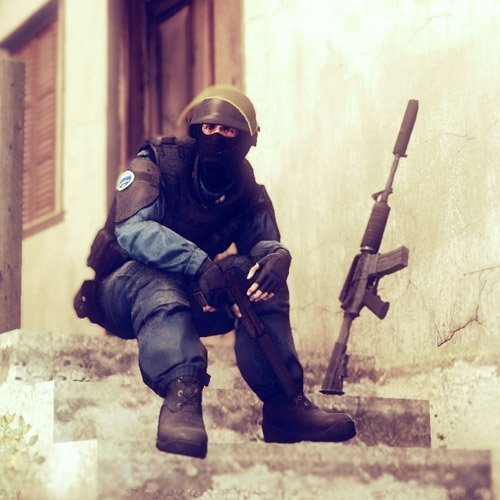c: (75, 88, 302, 456)
ch: (184, 89, 259, 169)
